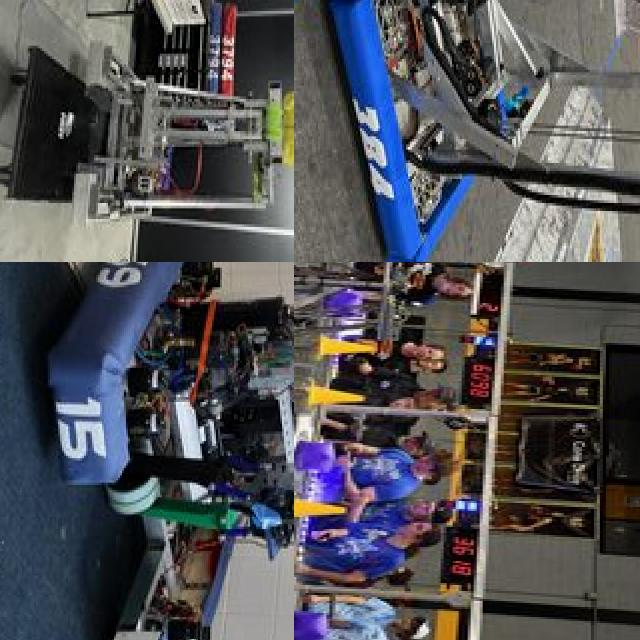FRC-Robots: (50, 262, 294, 640), (335, 0, 640, 262), (68, 18, 287, 262), (294, 262, 404, 341)
